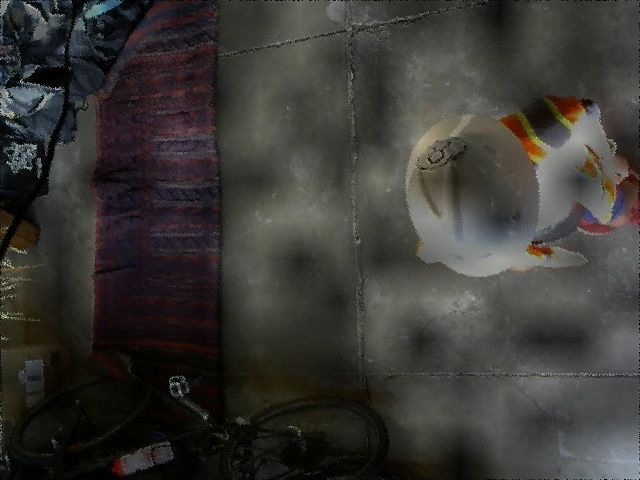eight: (418, 137, 467, 168)
